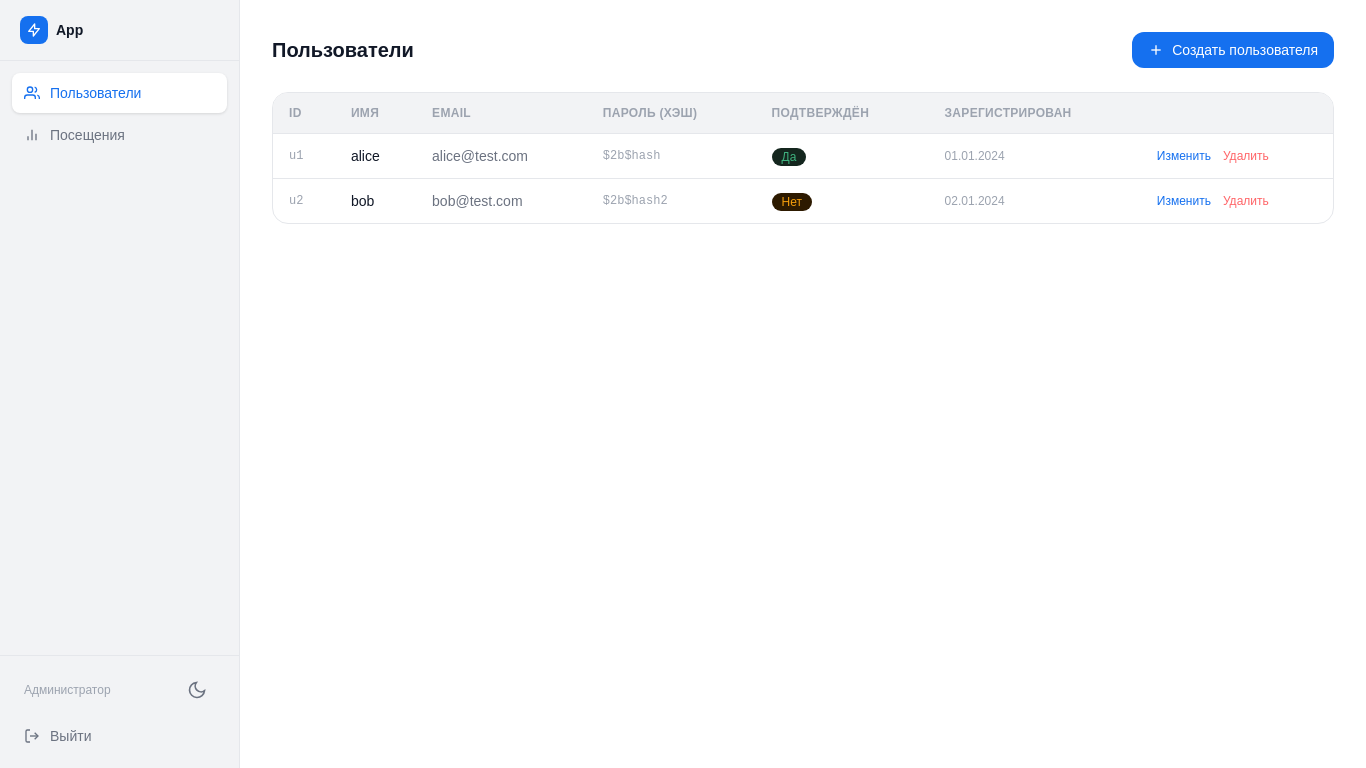
Test: AdminPage — панель управления › выход из системы вызывает adminAPI.logout и возвращает форму входа
Check: the text "alice" is shown, box top-left (335, 134), bottom-right (416, 178)
Step 1. Click the button "Выйти" → (120, 736), box top-left (12, 716), bottom-right (227, 756)
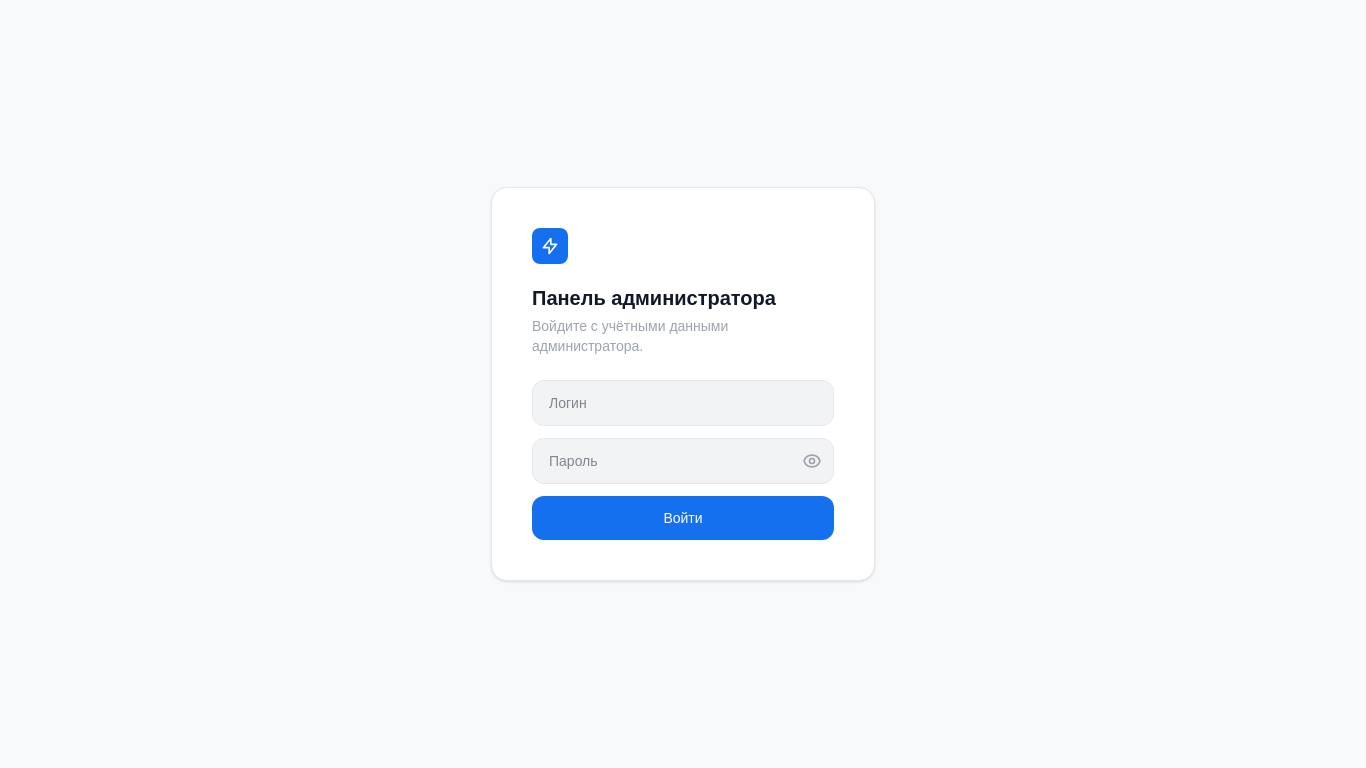
Check: the field with placeholder "Логин" is shown, box top-left (532, 380), bottom-right (834, 426)
